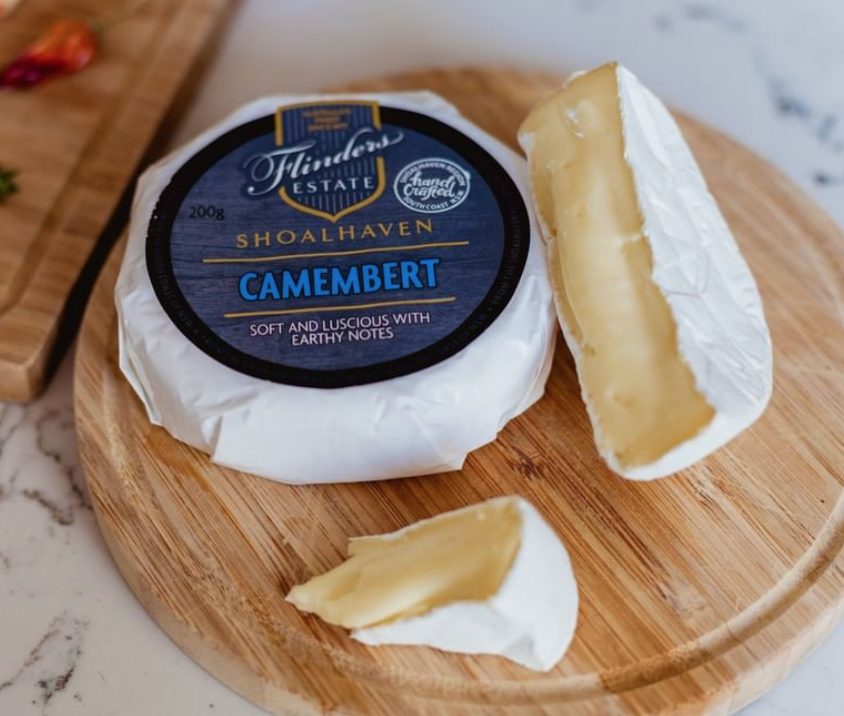camembert: (516, 61, 777, 480), (281, 493, 585, 675)
